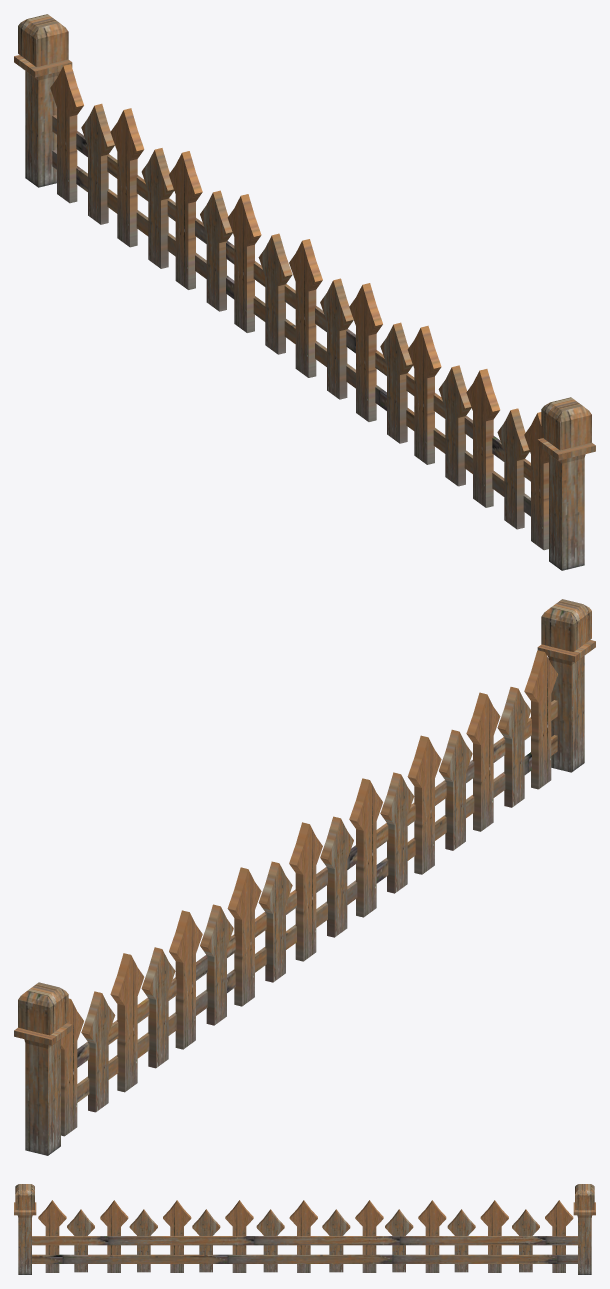
The model's file is träfencelong.fbx.
The picture shows the model from 3 angles, top to bottom: view 1: azimuth 30°, elevation 25°; view 2: azimuth 150°, elevation 25°; view 3: azimuth 270°, elevation 25°; orthographic projection. The views are drawn at different scales.
Visible parts, largest first — view 1: Cube.011, Cube.010, Plane.002, Plane.001, Cube.012, Cube.003, Cube.016, Cube.008, Cube.005, Cube.014, Cube.018, Cube.002 (+9 smaller); view 2: Cube.010, Cube.011, Plane.002, Plane.001, Cube.012, Cube.014, Cube.020, Cube.003, Cube.008, Cube.018, Cube.005, Cube.016 (+9 smaller); view 3: Plane.001, Plane.002, Cube.010, Cube.011, Cube.008, Cube.005, Cube.014, Cube.020, Cube.003, Cube.018, Cube.002, Cube.012 (+9 smaller).
Boxes of the visible parts, bbox=[...] form: Cube.011: bbox=[537, 397, 595, 570]; Cube.010: bbox=[14, 14, 72, 187]; Plane.002: bbox=[52, 150, 530, 516]; Plane.001: bbox=[52, 115, 530, 481]; Cube.012: bbox=[289, 239, 322, 377]; Cube.003: bbox=[110, 108, 144, 247]; Cube.016: bbox=[407, 325, 441, 464]; Cube.008: bbox=[227, 194, 261, 332]; Cube.005: bbox=[169, 151, 202, 289]; Cube.014: bbox=[349, 283, 382, 421]; Cube.018: bbox=[466, 369, 500, 507]; Cube.002: bbox=[50, 64, 83, 203]; Cube.010: bbox=[14, 982, 72, 1155]; Cube.011: bbox=[537, 599, 595, 772]; Plane.002: bbox=[77, 735, 557, 1102]; Plane.001: bbox=[77, 700, 557, 1067]; Cube.012: bbox=[289, 822, 322, 961]; Cube.014: bbox=[349, 778, 382, 917]; Cube.020: bbox=[524, 650, 557, 789]; Cube.003: bbox=[110, 953, 144, 1092]; Cube.008: bbox=[227, 867, 261, 1006]; Cube.018: bbox=[466, 692, 500, 831]; Cube.005: bbox=[169, 910, 202, 1049]; Cube.016: bbox=[407, 735, 441, 874]; Plane.001: bbox=[32, 1236, 577, 1245]; Plane.002: bbox=[32, 1254, 577, 1263]; Cube.010: bbox=[573, 1184, 595, 1274]; Cube.011: bbox=[14, 1184, 36, 1274]; Cube.008: bbox=[355, 1200, 383, 1272]; Cube.005: bbox=[418, 1200, 446, 1272]; Cube.014: bbox=[225, 1200, 253, 1272]; Cube.020: bbox=[38, 1200, 66, 1272]; Cube.003: bbox=[480, 1200, 508, 1272]; Cube.018: bbox=[100, 1200, 128, 1272]; Cube.002: bbox=[545, 1200, 573, 1272]; Cube.012: bbox=[289, 1200, 317, 1272].
Size of the model in its own units: 29.34 by 119 by 736.
